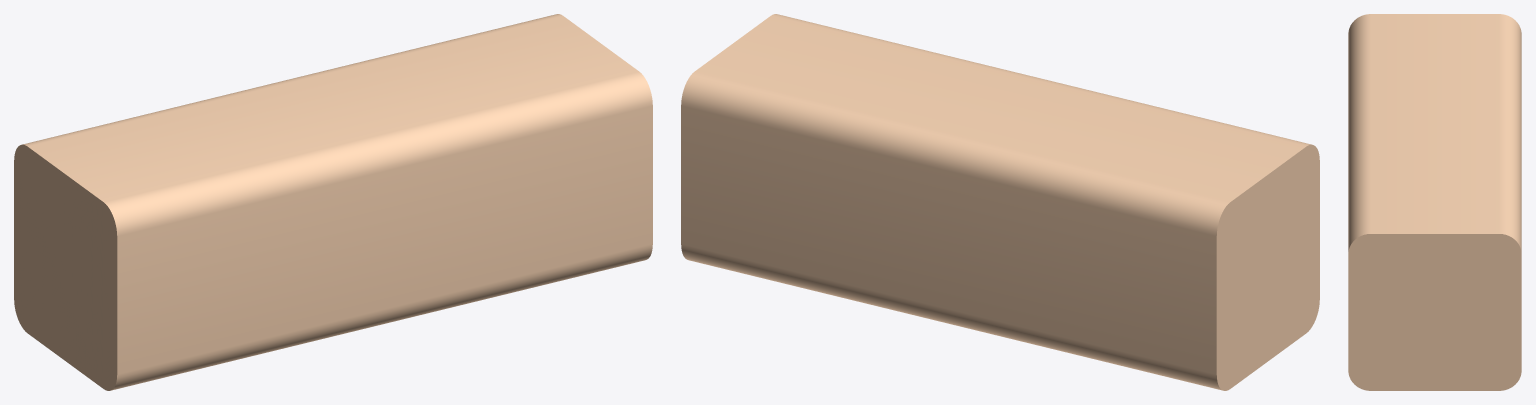
File: Wall Block A.fbx
The picture shows the model from 3 angles, left to right: view 1: azimuth 30°, elevation 25°; view 2: azimuth 150°, elevation 25°; view 3: azimuth 270°, elevation 25°; orthographic projection. The views are drawn at different scales.
Parts seen in each view (by area): view 1: Wall Block A; view 2: Wall Block A; view 3: Wall Block A.
Boxes of the visible parts, box(x1,y1,x2,y2) form: Wall Block A: box(14, 14, 652, 390); Wall Block A: box(681, 14, 1319, 390); Wall Block A: box(1348, 14, 1521, 390).
Size of the model in its own units: 300 by 100 by 100.
